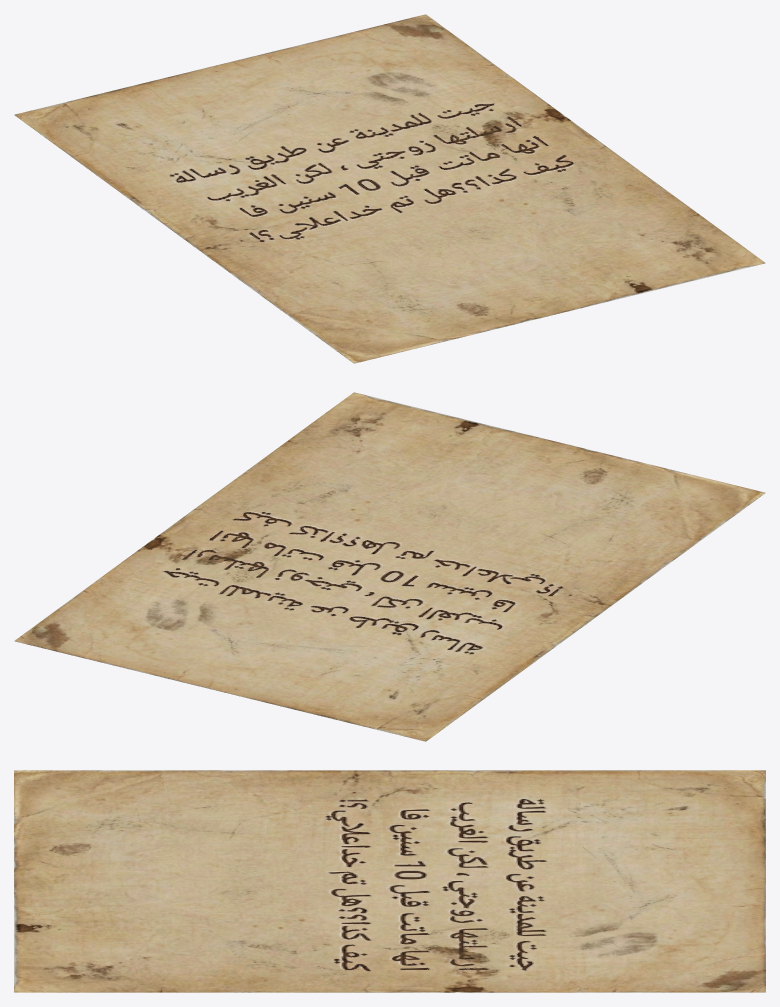
File: 4th note.fbx
3 views of the same model, one above another, from view 1: azimuth 30°, elevation 25°; view 2: azimuth 150°, elevation 25°; view 3: azimuth 270°, elevation 25° (orthographic). The views are drawn at different scales.
Parts seen in each view (by area): view 1: pCube1; view 2: pCube1; view 3: pCube1.
Boxes of the visible parts, x1,y1,x2,y2 form: pCube1: (14, 14, 765, 363); pCube1: (14, 392, 765, 741); pCube1: (14, 770, 765, 992).
Bounding box in the file's own units: 0.6996 × 0.000161 × 1.
1 material, 1 textured.
